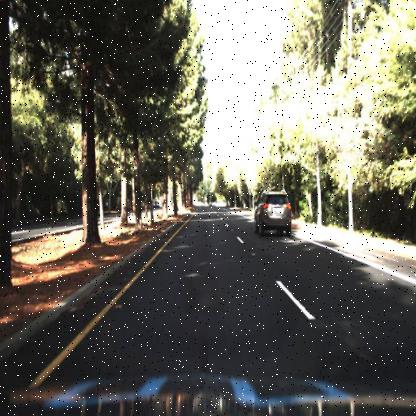car: (254, 190, 291, 238)
